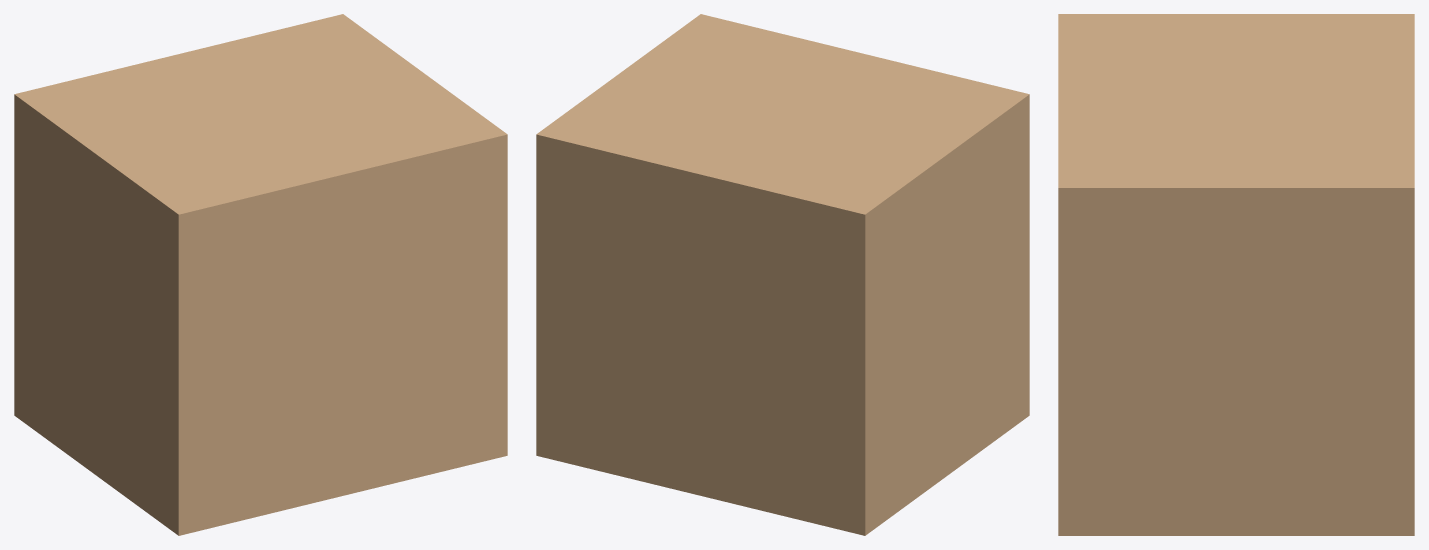
File: prop_yakbongji_lod2.glb
The picture shows the model from 3 angles, left to right: view 1: azimuth 30°, elevation 25°; view 2: azimuth 150°, elevation 25°; view 3: azimuth 270°, elevation 25°; orthographic projection. The views are drawn at different scales.
Parts seen in each view (by area): view 1: prop_yakbongji_lod2; view 2: prop_yakbongji_lod2; view 3: prop_yakbongji_lod2.
Part boxes in pixels (left/top/right/bottom): prop_yakbongji_lod2: left=14, top=14, right=507, bottom=535; prop_yakbongji_lod2: left=536, top=14, right=1029, bottom=535; prop_yakbongji_lod2: left=1058, top=14, right=1414, bottom=535.
Size of the model in its own units: 0.15 by 0.14 by 0.13.
